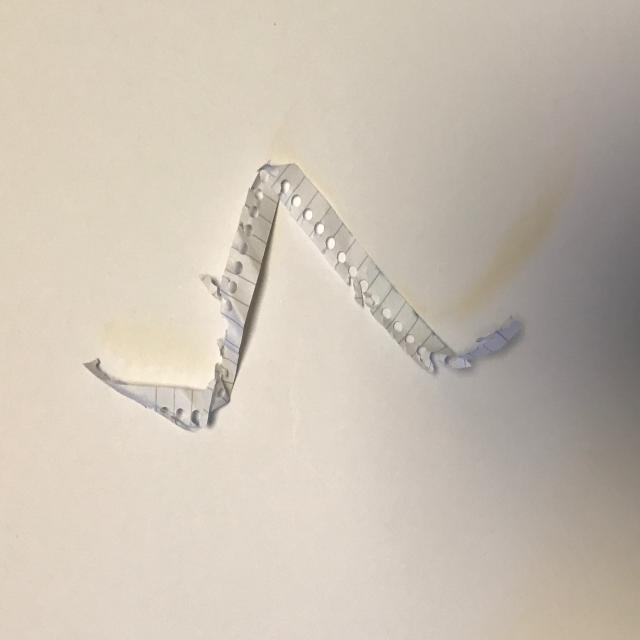paper: (77, 150, 535, 448)
